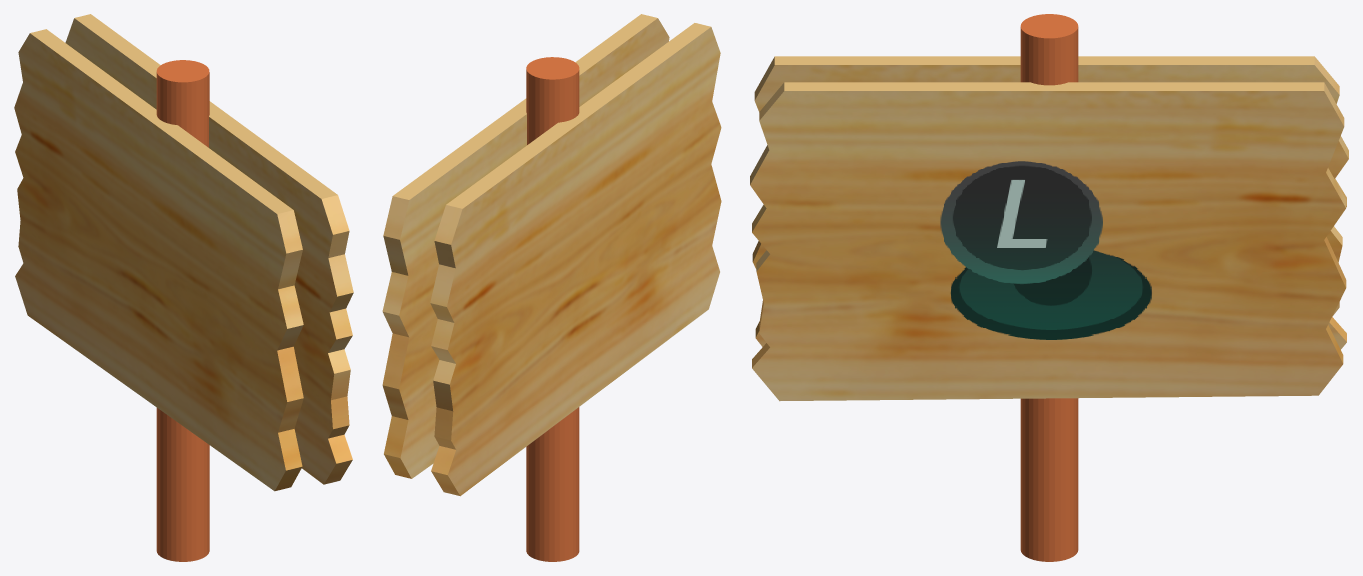
The model's file is Info.glb.
The picture shows the model from 3 angles, left to right: view 1: azimuth 30°, elevation 25°; view 2: azimuth 150°, elevation 25°; view 3: azimuth 270°, elevation 25°; orthographic projection. The views are drawn at different scales.
Parts seen in each view (by area): view 1: 平面.003; view 2: 平面.003; view 3: 平面.003.
Boxes of the visible parts, left/top/right/bottom form: 平面.003: left=14, top=14, right=353, bottom=561; 平面.003: left=382, top=14, right=721, bottom=561; 平面.003: left=750, top=14, right=1348, bottom=561.
Bounding box in the file's own units: 0.114 × 0.8 × 0.8293.
Materials: 3 (2 with a texture image).
